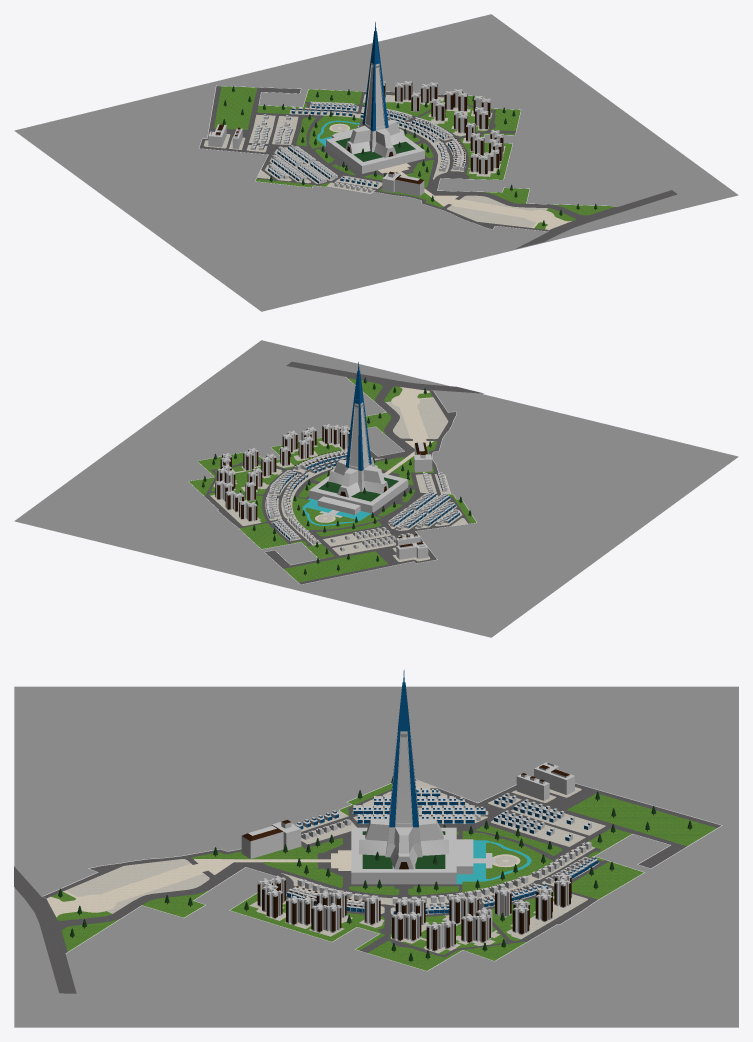
3 renders of one model, top to bottom at view 1: azimuth 30°, elevation 25°; view 2: azimuth 150°, elevation 25°; view 3: azimuth 270°, elevation 25°, orthographic. The views are drawn at different scales.
Visible parts, largest first — view 1: base_plane, buildings, floor_01_grass, floor_02_road, floor_03_tiles, towers, floor_primary_marble, boundry_line, tree; view 2: base_plane, buildings, floor_01_grass, floor_02_road, floor_03_tiles, towers, floor_primary_marble, tree, boundry_line, water; view 3: base_plane, buildings, floor_01_grass, floor_02_road, towers, floor_03_tiles, floor_primary_marble, boundry_line, tree, water.
Boxes of the visible parts, x1,y1,x2,y2 form: base_plane: [14, 14, 738, 311]; buildings: [208, 22, 466, 196]; floor_01_grass: [214, 86, 615, 229]; floor_02_road: [199, 86, 677, 248]; floor_03_tiles: [203, 94, 547, 227]; towers: [383, 81, 503, 174]; floor_primary_marble: [329, 123, 571, 229]; boundry_line: [199, 85, 618, 231]; tree: [222, 86, 597, 226]; base_plane: [14, 340, 738, 637]; buildings: [266, 362, 459, 559]; floor_01_grass: [189, 378, 476, 582]; floor_02_road: [204, 361, 483, 584]; floor_03_tiles: [210, 398, 467, 561]; towers: [215, 424, 350, 521]; floor_primary_marble: [315, 387, 433, 522]; tree: [201, 377, 471, 575]; boundry_line: [188, 377, 476, 584]; water: [302, 498, 371, 525]; base_plane: [14, 686, 738, 1027]; buildings: [241, 670, 598, 914]; floor_01_grass: [51, 783, 716, 970]; floor_02_road: [14, 779, 720, 993]; towers: [257, 872, 571, 951]; floor_03_tiles: [65, 780, 605, 953]; floor_primary_marble: [46, 850, 520, 917]; boundry_line: [44, 779, 722, 971]; tree: [58, 776, 692, 961]; water: [456, 840, 531, 884].
Size of what is drawn, in the model's own units: 1137 by 306 by 1021.
